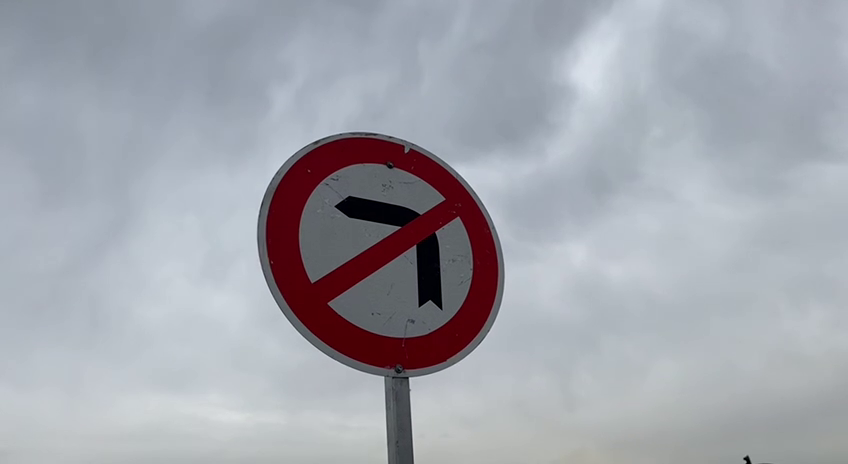noTurnLeft: (246, 129, 512, 386)
